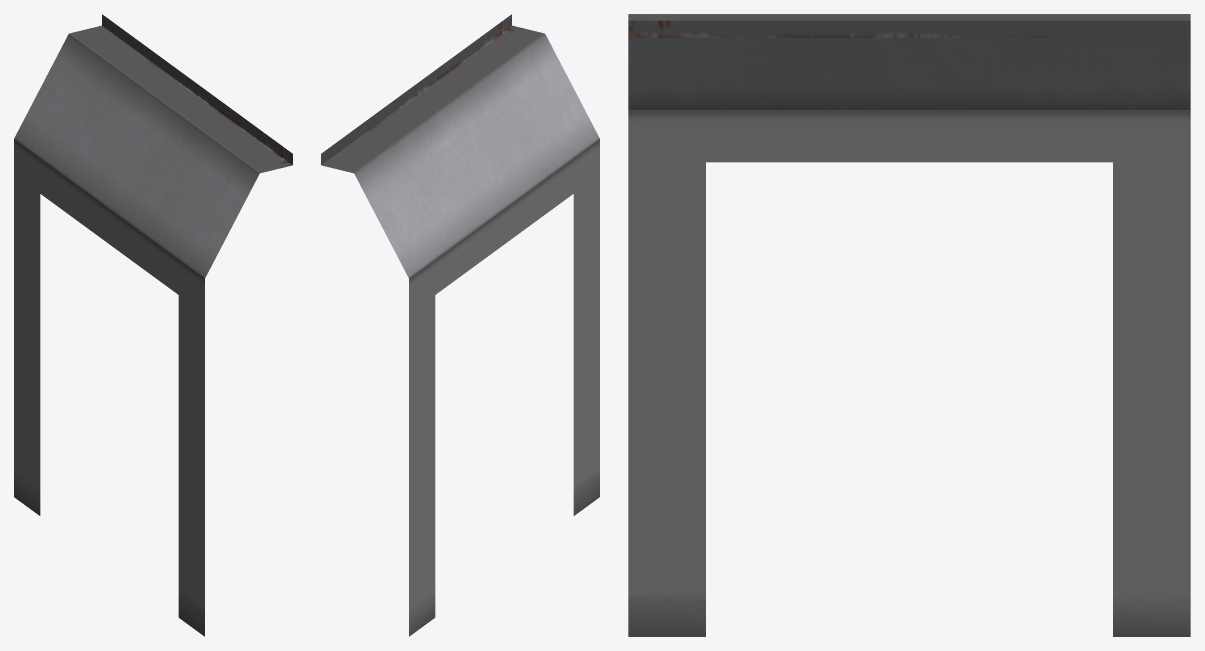
The model's file is VR_DoorWall_3x.fbx.
3 views of the same model, side by side, from view 1: azimuth 30°, elevation 25°; view 2: azimuth 150°, elevation 25°; view 3: azimuth 270°, elevation 25° (orthographic). The views are drawn at different scales.
Parts seen in each view (by area): view 1: DoorFrame_3x.002; view 2: DoorFrame_3x.002; view 3: DoorFrame_3x.002.
Boxes of the visible parts, x1,y1,x2,y2 form: DoorFrame_3x.002: (14,14,292,636); DoorFrame_3x.002: (321,14,599,636); DoorFrame_3x.002: (628,14,1190,636).
Bounding box in the file's own units: 0.7965 × 4 × 3.
